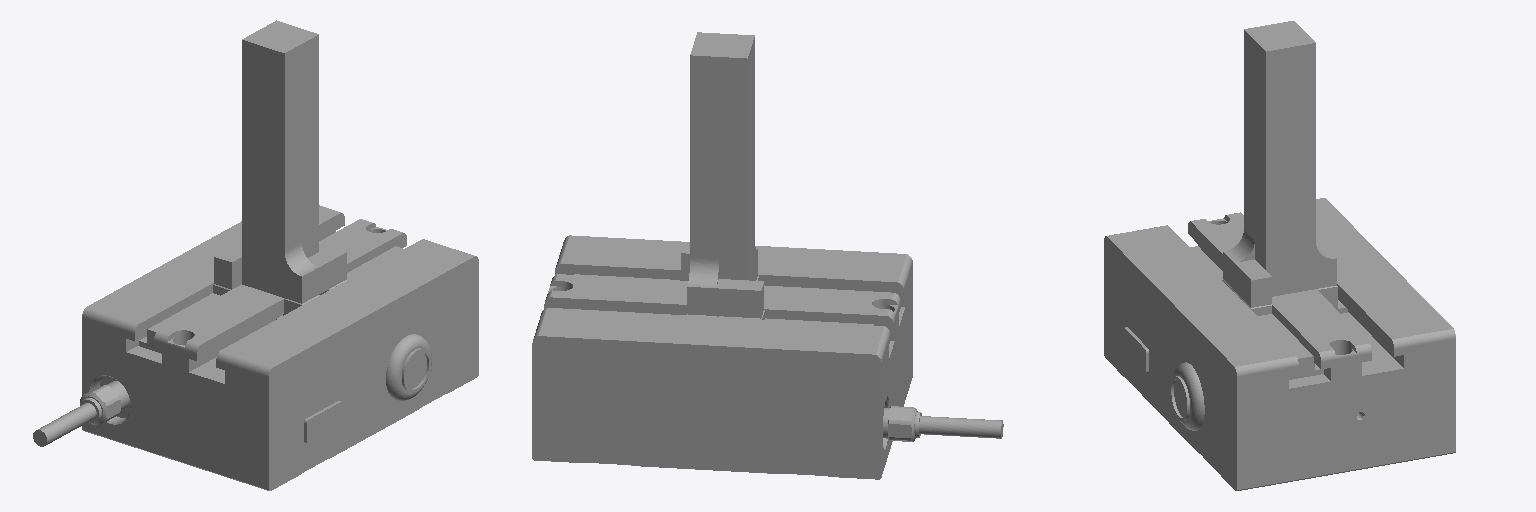
robot.urdf — onshape:
<?xml version="1.0"?>
<robot name="onshape">
<link name="ffld_0850ncn30_lksr00_0__6">
<visual>
<origin xyz="0.05310131103426093957 0.022056786478001109281 1.3723748428905863106e-13" rpy="1.570796322806773393 2.3540652919396952814e-14 -2.7484979288976245648" />
<geometry>
<mesh filename="package://hc10_with_hand/meshes/end_effector/ffld_0850ncn30_lksr00_0__6.stl"/>
</geometry>
<material name="ffld_0850ncn30_lksr00_0__6_material">
<color rgba="0.68627450980392157298 0.68627450980392157298 0.68627450980392157298 1.0"/>
</material>
</visual>
<!-- Shapes for ffld_0850ncn30_lksr00_0__6 -->
<collision>
<origin xyz="-0.01479645393088345473 0.034768139905676696821 0.022500000150687534534" rpy="1.570796322806773393 2.3540652919396952814e-14 -2.7484979288976245648" />
<geometry>
<box size="0.11429999999999999882 0.044999999999999998335 0.0030000000000000000625" />
</geometry>
</collision>
<collision>
<origin xyz="0.015335209541718616832 -0.034470959515271140661 0.022499999849584263745" rpy="1.5707963307830199451 -2.3540652919396952814e-14 0.39309472469216849566" />
<geometry>
<box size="0.11307699999999999696 0.044999999999999998335 0.0030000000000000000625" />
</geometry>
</collision>
<collision>
<origin xyz="0.012009762172649575407 -0.028961718088153596412 0.043499999874960081081" rpy="3.9881232233081839032e-09 -2.3540652919396952814e-14 0.39309472469216849566" />
<geometry>
<box size="0.1111540000000000028 0.015725699999999998707 0.0030000000000000000625" />
</geometry>
</collision>
<collision>
<origin xyz="0.00013806078736829097142 -0.00033293780953855614535 0.043499999998562584314" rpy="3.9881232233081839032e-09 -2.3540652919396952814e-14 0.39309472469216849566" />
<geometry>
<box size="0.1111540000000000028 0.01206100000000000054 0.0030000000000000000625" />
</geometry>
</collision>
<collision>
<origin xyz="-0.011812127323438045834 0.028485114347379509453 0.043500000122982260264" rpy="3.9881232233081839032e-09 -2.3540652919396952814e-14 0.39309472469216849566" />
<geometry>
<box size="0.1111540000000000028 0.016893899999999999889 0.0030000000000000000625" />
</geometry>
</collision>
<collision>
<origin xyz="0.063188034398928213942 -0.0061834422017654697146 0.017249999880692919868" rpy="-0.39309472469216838464 1.570796322806773393 0" />
<geometry>
<box size="0.034500000000000002887 0.018600000000000001948 0.0030000000000000000625" />
</geometry>
</collision>
<collision>
<origin xyz="0.051715718979865842042 0.021482213019861560316 0.017600000000137214218" rpy="-0.39309472469216838464 1.570796322806773393 0" />
<geometry>
<box size="0.033799999999999996714 0.041299999999999996436 0.0030000000000000000625" />
</geometry>
</collision>
<collision>
<origin xyz="0.040243403560268800612 0.049147868242777975611 0.017600000119581498542" rpy="-2.7484979288976250089 -1.570796322806773393 0" />
<geometry>
<box size="0.033799999999999996714 0.018600000000000001948 0.0030000000000000000625" />
</geometry>
</collision>
<collision>
<origin xyz="0.040243403591967007171 0.049147868166336011742 0.038350000119581506564" rpy="-2.7484979288976250089 -1.570796322806773393 0" />
<geometry>
<box size="0.007700000000000000247 0.018600000000000001948 0.0030000000000000000625" />
</geometry>
</collision>
<collision>
<origin xyz="0.063188034431161096971 -0.0061834422794968223192 0.038349999880692930976" rpy="-2.7484979288976250089 -1.570796322806773393 0" />
<geometry>
<box size="0.007700000000000000247 0.018600000000000001948 0.0030000000000000000625" />
</geometry>
</collision>
<collision>
<origin xyz="-0.063214138508734141197 0.006246388209560325977 0.017600000119578861763" rpy="0.39309472469216838464 -1.570796322806773393 0" />
<geometry>
<box size="0.033799999999999996714 0.018600000000000001948 0.0030000000000000000625" />
</geometry>
</collision>
<collision>
<origin xyz="-0.051741823089137092828 -0.021419267013356089319 0.017600000000134577438" rpy="2.7484979288976250089 1.570796322806773393 0" />
<geometry>
<box size="0.033799999999999996714 0.041299999999999996436 0.0030000000000000000625" />
</geometry>
</collision>
<collision>
<origin xyz="-0.040269507669540044459 -0.049084922236272504614 0.017599999880690279236" rpy="0.39309472469216838464 -1.570796322806773393 0" />
<geometry>
<box size="0.033799999999999996714 0.018600000000000001948 0.0030000000000000000625" />
</geometry>
</collision>
<collision>
<origin xyz="-0.04026950763784183096 -0.049084922312714482362 0.038349999880690294196" rpy="0.39309472469216838464 -1.570796322806773393 0" />
<geometry>
<box size="0.007700000000000000247 0.018600000000000001948 0.0030000000000000000625" />
</geometry>
</collision>
<collision>
<origin xyz="-0.063214138477035927699 0.0062463881331183551682 0.038350000119578869784" rpy="0.39309472469216838464 -1.570796322806773393 0" />
<geometry>
<box size="0.007700000000000000247 0.018600000000000001948 0.0030000000000000000625" />
</geometry>
</collision>
<collision>
<origin xyz="-1.3052079230378710317e-05 3.1473062564336268254e-05 0.0015000000001358846074" rpy="-3.141592649601669951 -2.3540652919396952814e-14 0.39309472469216849566" />
<geometry>
<box size="0.11359999999999999265 0.078500000000000000333 0.0030000000000000000625" />
</geometry>
</collision>
<inertial>
<origin xyz="-0.00016432911095404925737 -0.00012237677728041407299 0.021276061575975224738" rpy="0 0 0"/>
<mass value="2.9742435406123801656" />
<inertia ixx="0.0023161921097216747918" ixy="-0.00057305906837393401354"  ixz="-3.7621960169175062006e-06" iyy="0.0035329830638358363133" iyz="-1.9186990194822017588e-06" izz="0.0049122002234752871336" />
</inertial>
</link>

<link name="center_finger">
<inertial>
<origin xyz="0 0 0" rpy="0 0 0" />
<mass value="1e-9" />
<inertia ixx="0" ixy="0" ixz="0" iyy="0" iyz="0" izz="0" />
</inertial>
</link>
<joint name="center_finger_frame" type="fixed">
<origin xyz="-1.3051873192603800322e-05 3.1472560834036302163e-05 0.13750000000013595791" rpy="-2.2196766399007153304e-14 -3.9881250635755765785e-09 1.963891051487064443" />
<parent link="ffld_0850ncn30_lksr00_0__6" />
<child link="center_finger" />
<axis xyz="0 0 0"/>
</joint>

<link name="end_effector_center">
<inertial>
<origin xyz="0 0 0" rpy="0 0 0" />
<mass value="1e-9" />
<inertia ixx="0" ixy="0" ixz="0" iyy="0" iyz="0" izz="0" />
</inertial>
</link>
<joint name="end_effector_center_frame" type="fixed">
<origin xyz="0 0 -4.336808689942017736e-19" rpy="-2.3540652916961041847e-14 -3.9881232233081822489e-09 1.9638910514870651092" />
<parent link="ffld_0850ncn30_lksr00_0__6" />
<child link="end_effector_center" />
<axis xyz="0 0 0"/>
</joint>

<link name="ffld_0850ncn30_lksr00_0__3">
<visual>
<origin xyz="-0.013499999999999998113 -0.01269999999999999428 0.0097999999999999511113" rpy="1.570796326794896558 1.5707963267948961139 0" />
<geometry>
<mesh filename="package://hc10_with_hand/meshes/end_effector/ffld_0850ncn30_lksr00_0__3.stl"/>
</geometry>
<material name="ffld_0850ncn30_lksr00_0__3_material">
<color rgba="0.68627450980392157298 0.68627450980392157298 0.68627450980392157298 1.0"/>
</material>
</visual>
<!-- Shapes for ffld_0850ncn30_lksr00_0__3 -->
<collision>
<origin xyz="0.0085000000000000040801 -0.013194304999999999922 -0.0027000000000000478478" rpy="1.0131600150431524611e-25 1.5707963267948961139 0" />
<geometry>
<box size="0.024399999999999998079 0.0064113900000000003179 0.0030000000000000000625" />
</geometry>
</collision>
<collision>
<origin xyz="0.047070199999999999541 1.7347234759768070944e-18 0.0014999999999999492906" rpy="3.141592653589793116 6.2825211197003083084e-26 3.141592653589793116" />
<geometry>
<box size="0.085859599999999994258 0.01799999999999999864 0.0030000000000000000625" />
</geometry>
</collision>
<collision>
<origin xyz="0.0050000000000000009714 -0.01490000000000000005 -0.0027000000000000478478" rpy="1.570796326794896558 1.5707963267948961139 0" />
<geometry>
<box size="0.024399999999999998079 0.010000000000000000208 0.0030000000000000000625" />
</geometry>
</collision>
<collision>
<origin xyz="0.044999999999999998335 -0.00030134999999999537157 0.0079999999999999481248" rpy="2.7261089038154884094e-16 6.2825211197003083084e-26 3.141592653589793116" />
<geometry>
<box size="0.089999999999999996669 0.018602699999999999791 0.0030000000000000000625" />
</geometry>
</collision>
<collision>
<origin xyz="0.010815200000000000508 -0.01269999999999999428 0.0079999999999999515943" rpy="2.7261089038154884094e-16 6.2825211197003083084e-26 3.141592653589793116" />
<geometry>
<box size="0.012369599999999999693 0.0074000000000000003275 0.0030000000000000000625" />
</geometry>
</collision>
<collision>
<origin xyz="0.088499999999999995337 1.7347234759768070944e-18 0.0047499999999999478403" rpy="1.0131600150431524611e-25 1.5707963267948961139 0" />
<geometry>
<box size="0.0094999999999999997641 0.01799999999999999864 0.0030000000000000000625" />
</geometry>
</collision>
<collision>
<origin xyz="0.046081149999999994338 0.0075000000000000049266 0.0047499999999999461056" rpy="-1.570796326794896558 1.5707963267948961139 0" />
<geometry>
<box size="0.0094999999999999997641 0.087837700000000004663 0.0030000000000000000625" />
</geometry>
</collision>
<collision>
<origin xyz="0.050000000000000002776 -0.0074999999999999971204 0.0047499999999999478403" rpy="1.570796326794896558 -1.5707963267948961139 0" />
<geometry>
<box size="0.0094999999999999997641 0.080000000000000001665 0.0030000000000000000625" />
</geometry>
</collision>
<inertial>
<origin xyz="0.026010155325234741996 -0.0047355803699542942803 -0.0032141138333249730415" rpy="0 0 0"/>
<mass value="0.19285564776873392878" />
<inertia ixx="5.5202859436152247683e-05" ixy="-2.9112780924458255845e-05"  ixz="-5.23746968336353535e-05" iyy="0.00024511850474100832769" iyz="-1.2232725957805729746e-05" izz="0.00021268038410786007817" />
</inertial>
</link>

<joint name="fing1" type="prismatic">
<origin xyz="-1.3052014498035093004e-05 3.1472901599534017225e-05 0.045000000000135917388" rpy="0.39309472469217571211 -1.570796322806773393 0" />
<parent link="ffld_0850ncn30_lksr00_0__6" />
<child link="ffld_0850ncn30_lksr00_0__3" />
<axis xyz="0 0 1"/>
<limit effort="1" velocity="20" lower="0" upper="0.050000000000000002776"/>
<joint_properties friction="0.0"/>
</joint>

<link name="ffld_0850ncn30_lksr00_0__3_2">
<visual>
<origin xyz="-0.013499999999999998113 -0.012699999999999996014 0.0097999999999999459072" rpy="1.570796326794896558 1.570796326794896336 0" />
<geometry>
<mesh filename="package://hc10_with_hand/meshes/end_effector/ffld_0850ncn30_lksr00_0__3.stl"/>
</geometry>
<material name="ffld_0850ncn30_lksr00_0__3_material">
<color rgba="0.68627450980392157298 0.68627450980392157298 0.68627450980392157298 1.0"/>
</material>
</visual>
<!-- Shapes for ffld_0850ncn30_lksr00_0__3 -->
<collision>
<origin xyz="0.0085000000000000040801 -0.013194304999999999922 -0.002700000000000053052" rpy="-3.6029606679779289379e-25 1.570796326794896336 0" />
<geometry>
<box size="0.024399999999999998079 0.0064113900000000003179 0.0030000000000000000625" />
</geometry>
</collision>
<collision>
<origin xyz="0.047070199999999999541 0 0.0014999999999999440864" rpy="3.141592653589793116 -1.8889663167390913785e-25 -3.141592653589793116" />
<geometry>
<box size="0.085859599999999994258 0.01799999999999999864 0.0030000000000000000625" />
</geometry>
</collision>
<collision>
<origin xyz="0.0050000000000000009714 -0.01490000000000000005 -0.002700000000000053052" rpy="1.570796326794896558 1.570796326794896336 0" />
<geometry>
<box size="0.024399999999999998079 0.010000000000000000208 0.0030000000000000000625" />
</geometry>
</collision>
<collision>
<origin xyz="0.044999999999999998335 -0.00030134999999999710629 0.0079999999999999429207" rpy="2.7197515116503940362e-16 -1.8889663167390913785e-25 -3.141592653589793116" />
<geometry>
<box size="0.089999999999999996669 0.018602699999999999791 0.0030000000000000000625" />
</geometry>
</collision>
<collision>
<origin xyz="0.010815200000000000508 -0.012699999999999996014 0.0079999999999999463901" rpy="2.7197515116503940362e-16 -1.8889663167390913785e-25 -3.141592653589793116" />
<geometry>
<box size="0.012369599999999999693 0.0074000000000000003275 0.0030000000000000000625" />
</geometry>
</collision>
<collision>
<origin xyz="0.088499999999999995337 0 0.0047499999999999426362" rpy="-3.6029606679779289379e-25 1.570796326794896336 0" />
<geometry>
<box size="0.0094999999999999997641 0.01799999999999999864 0.0030000000000000000625" />
</geometry>
</collision>
<collision>
<origin xyz="0.046081149999999994338 0.0075000000000000031919 0.0047499999999999409014" rpy="-1.570796326794896558 1.570796326794896336 0" />
<geometry>
<box size="0.0094999999999999997641 0.087837700000000004663 0.0030000000000000000625" />
</geometry>
</collision>
<collision>
<origin xyz="0.050000000000000002776 -0.0074999999999999988551 0.0047499999999999426362" rpy="1.570796326794896558 -1.570796326794896336 0" />
<geometry>
<box size="0.0094999999999999997641 0.080000000000000001665 0.0030000000000000000625" />
</geometry>
</collision>
<inertial>
<origin xyz="0.026010155325234741996 -0.004735580369954296015 -0.003214113833324977812" rpy="0 0 0"/>
<mass value="0.19285564776873392878" />
<inertia ixx="5.5202859436152247683e-05" ixy="-2.9112780924458259233e-05"  ixz="-5.2374696833635346724e-05" iyy="0.0002451185047410083819" iyz="-1.2232725957805743299e-05" izz="0.00021268038410786007817" />
</inertial>
</link>

<joint name="fing2" type="prismatic">
<origin xyz="-1.3052014498050705515e-05 3.1472901599507996373e-05 0.045000000000135931266" rpy="-2.7484979288976245648 -1.570796322806773615 0" />
<parent link="ffld_0850ncn30_lksr00_0__6" />
<child link="ffld_0850ncn30_lksr00_0__3_2" />
<axis xyz="0 0 1"/>
<limit effort="1" velocity="20" lower="0" upper="0.050000000000000002776"/>
<joint_properties friction="0.0"/>
</joint>


</robot>

--- What the picture shows (computed from the rendered views, not written in the file) ---
3 views of the same robot in one strip: view 1: azimuth 30°, elevation 25°; view 2: azimuth 150°, elevation 25°; view 3: azimuth 270°, elevation 25° (orthographic).
Model onshape with 5 links and 4 joints (2 prismatic, 2 fixed), rooted at ffld_0850ncn30_lksr00_0__6, posed all joints at 0.
Links seen in each view (by area): view 1: ffld_0850ncn30_lksr00_0__6, ffld_0850ncn30_lksr00_0__3, ffld_0850ncn30_lksr00_0__3_2; view 2: ffld_0850ncn30_lksr00_0__6, ffld_0850ncn30_lksr00_0__3_2, ffld_0850ncn30_lksr00_0__3; view 3: ffld_0850ncn30_lksr00_0__6, ffld_0850ncn30_lksr00_0__3_2, ffld_0850ncn30_lksr00_0__3.
Link boxes in pixels (x1=…): ffld_0850ncn30_lksr00_0__6: x1=33, y1=205, x2=478, y2=490; ffld_0850ncn30_lksr00_0__3: x1=242, y1=30, x2=403, y2=319; ffld_0850ncn30_lksr00_0__3_2: x1=139, y1=20, x2=318, y2=353; ffld_0850ncn30_lksr00_0__6: x1=532, y1=235, x2=1003, y2=479; ffld_0850ncn30_lksr00_0__3_2: x1=687, y1=32, x2=873, y2=325; ffld_0850ncn30_lksr00_0__3: x1=574, y1=34, x2=758, y2=280; ffld_0850ncn30_lksr00_0__6: x1=1104, y1=198, x2=1455, y2=490; ffld_0850ncn30_lksr00_0__3_2: x1=1255, y1=32, x2=1347, y2=313; ffld_0850ncn30_lksr00_0__3: x1=1222, y1=21, x2=1323, y2=379.
Size in the robot's own frame: 0.1683 by 0.1166 by 0.135 metres.
3 mesh visuals loaded from 2 distinct referenced files (2 binary STL).